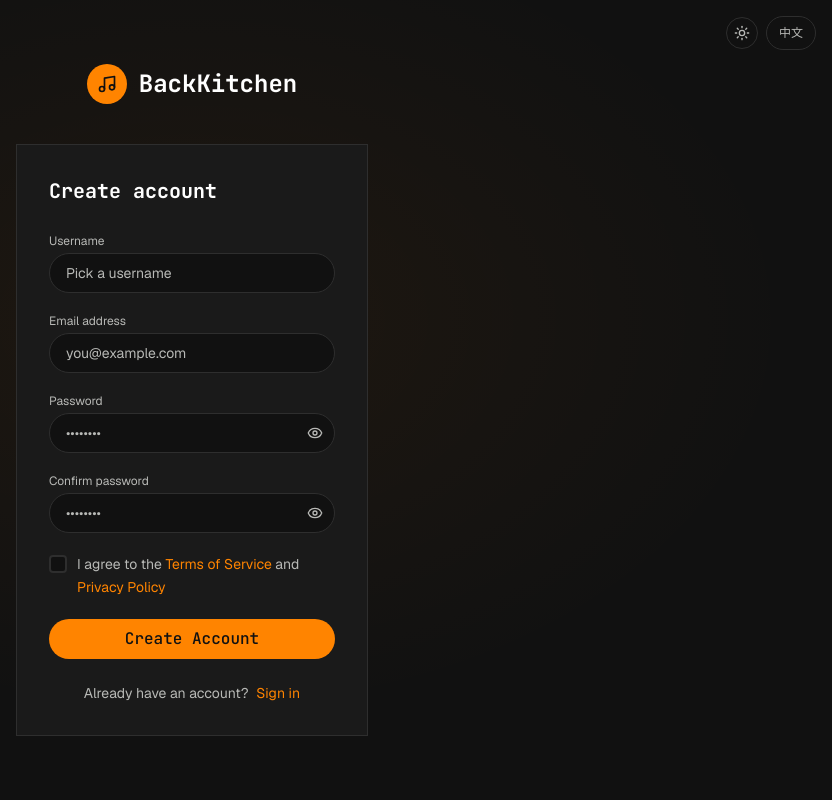
RegisterView › shows error when terms not accepted
Type "ada" into the field with placeholder "Pick a username" at (192, 273), box [49,253,335,293]
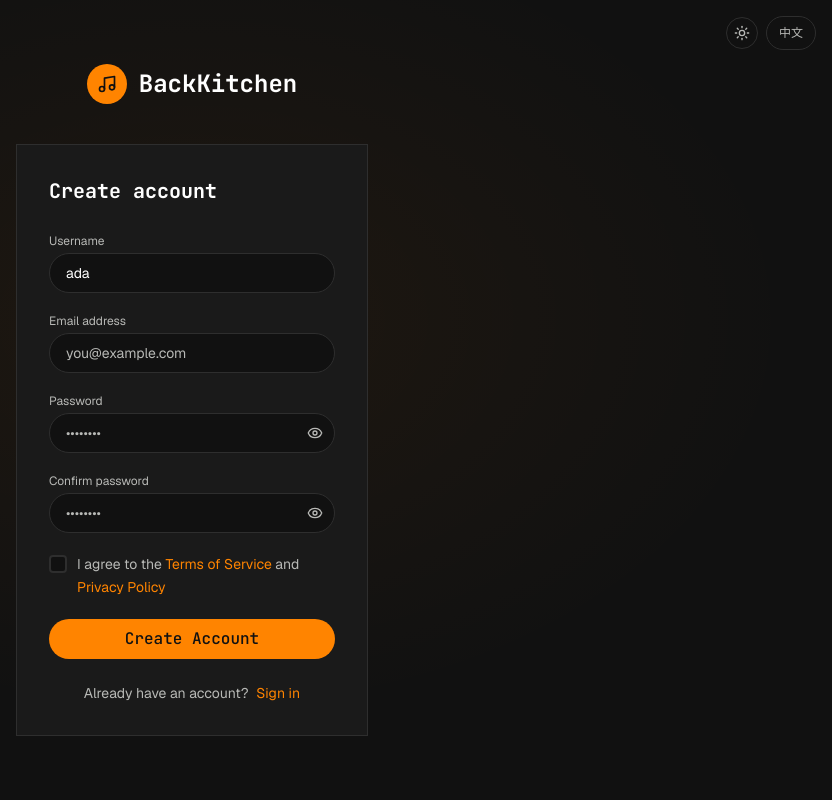
Type "ada@test.com" into the field with placeholder "you@example.com" at (192, 353), box [49,333,335,373]
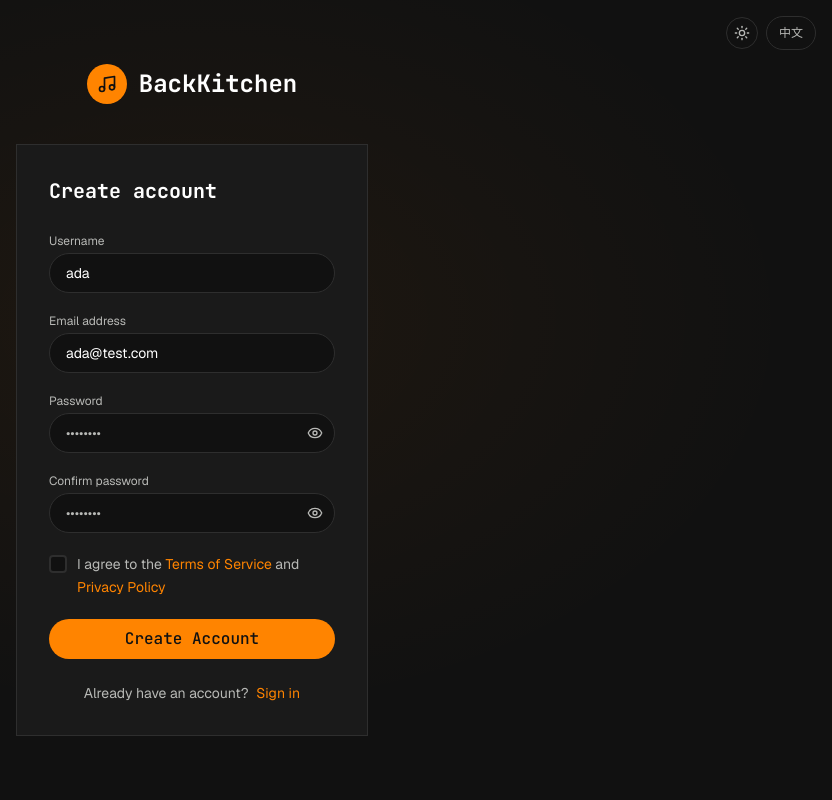
Type "password123" into the 1st password field with placeholder "••••••••" at (192, 433), box [49,413,335,453]
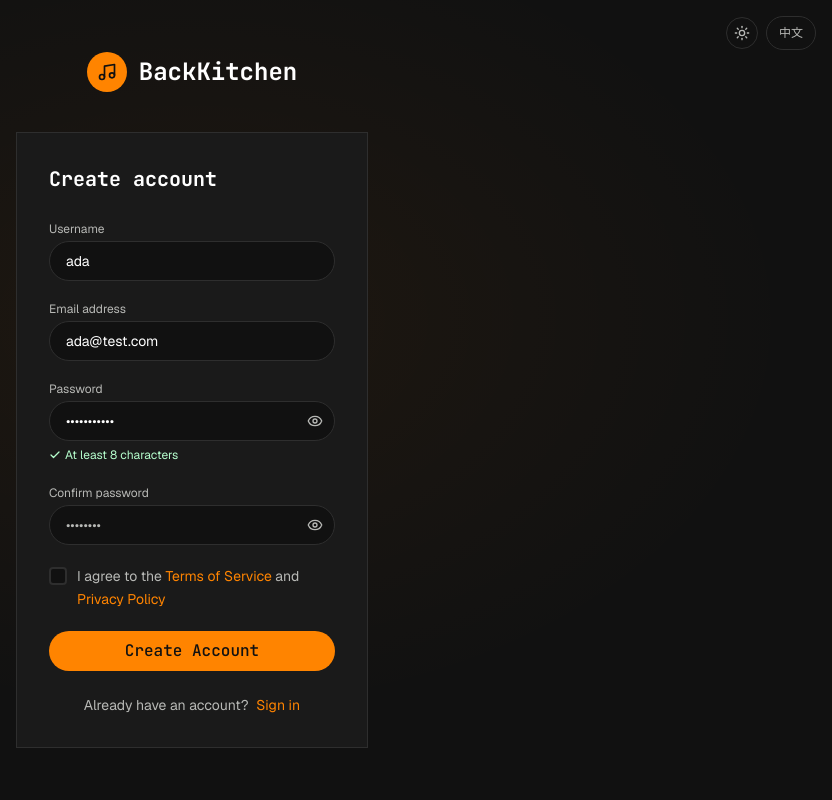
Type "password123" into the password field with placeholder "••••••••" at (192, 525), box [49,505,335,545]
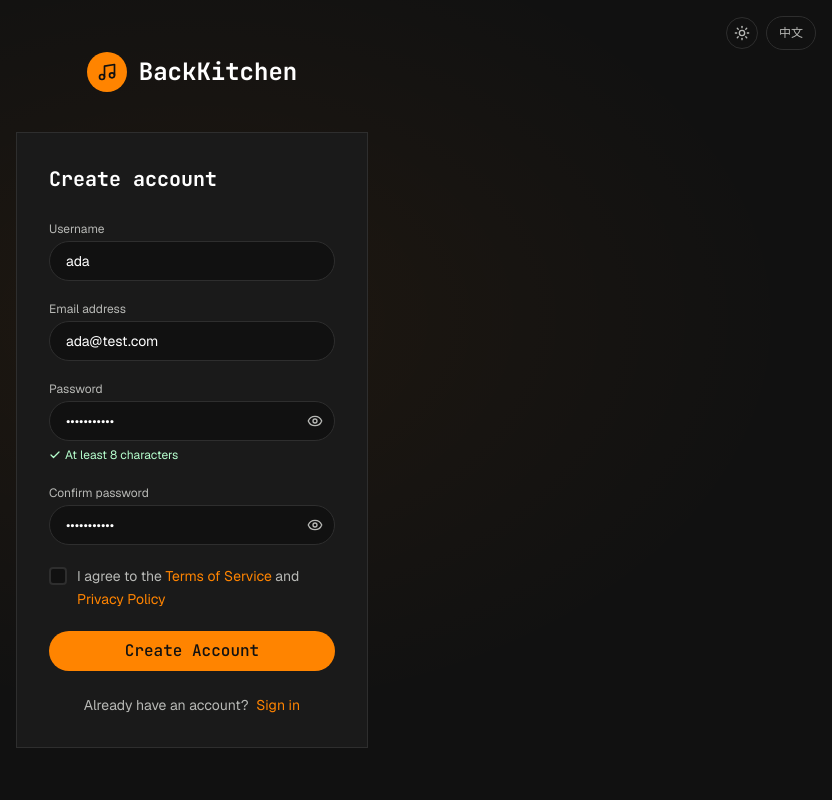
Submit the form, box [49,221,335,671]
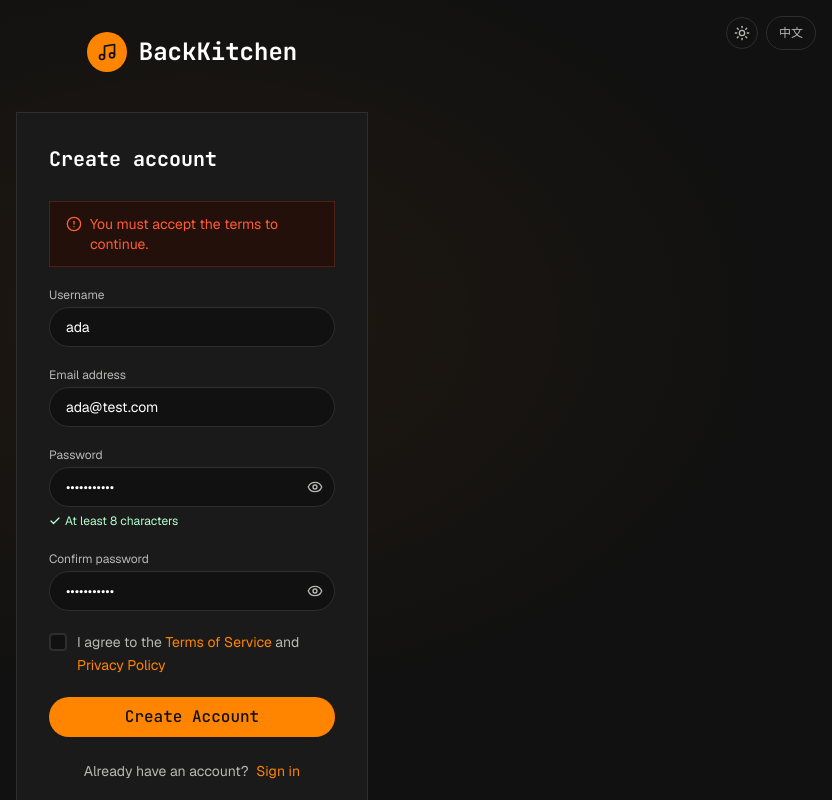
Expected: the text "You must accept the terms to continue." is shown, [90,215,278,253]
